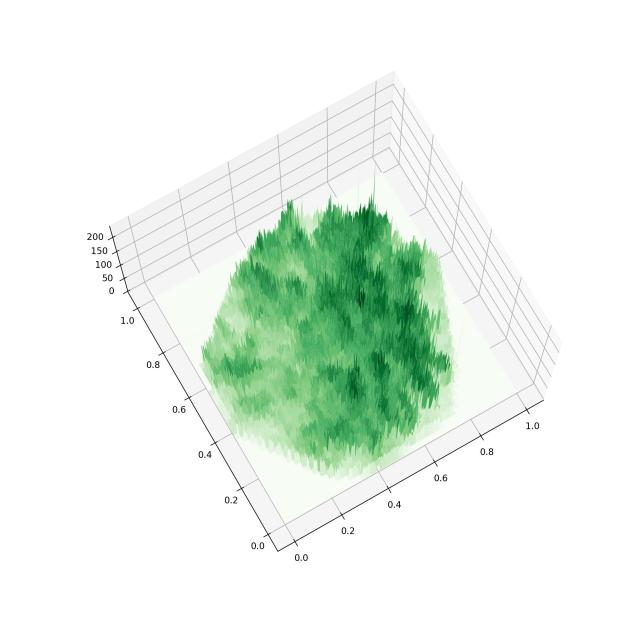fir: (47, 51, 590, 588)
